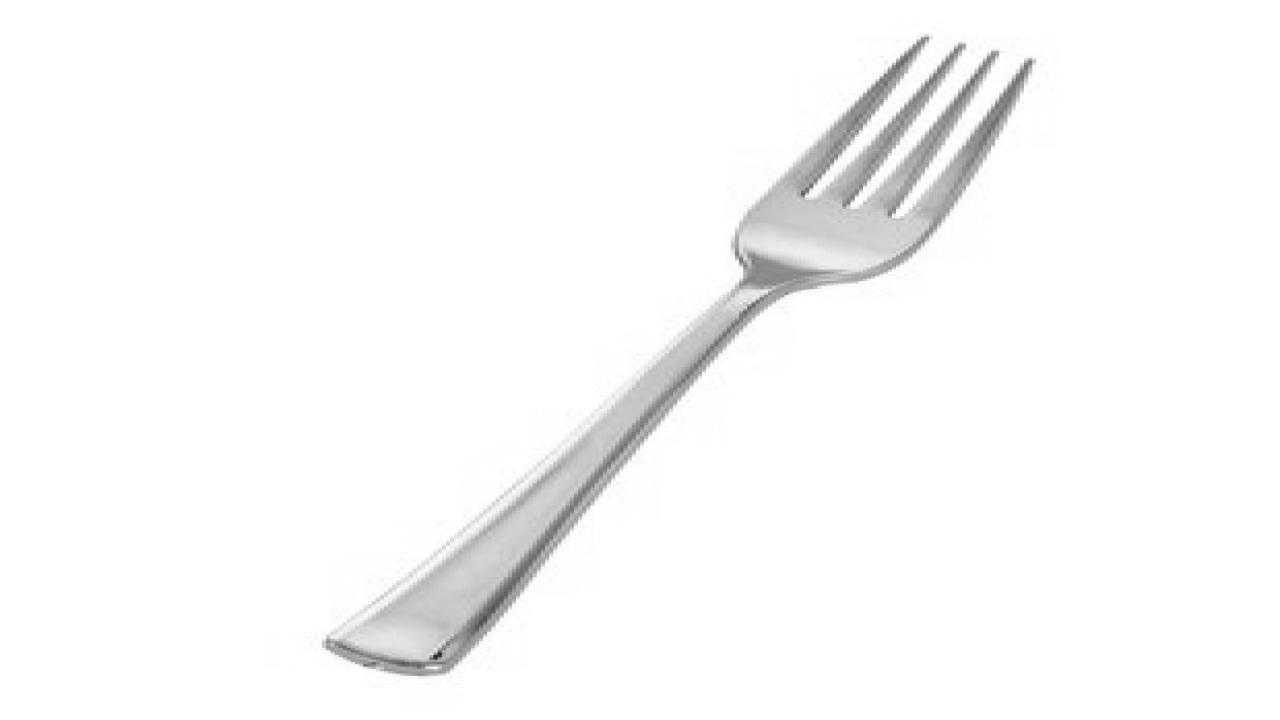fork: (318, 33, 1032, 673)
